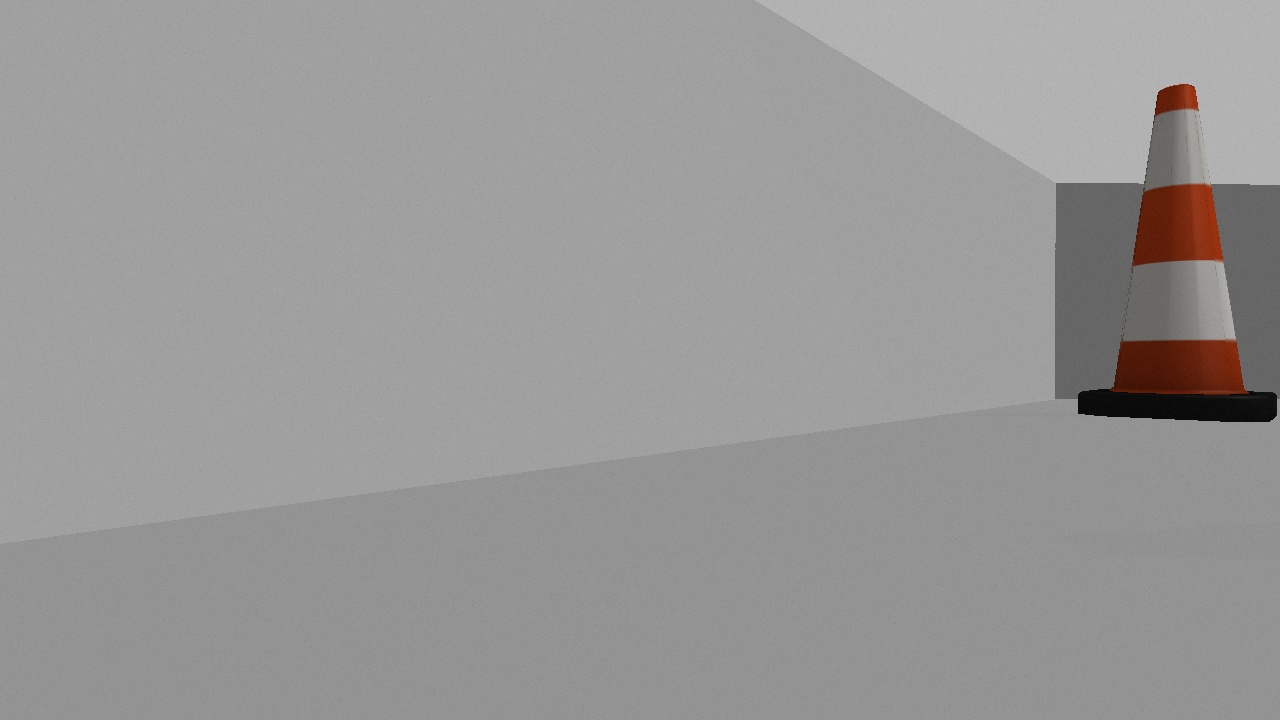barricade: (1062, 71, 1280, 438)
